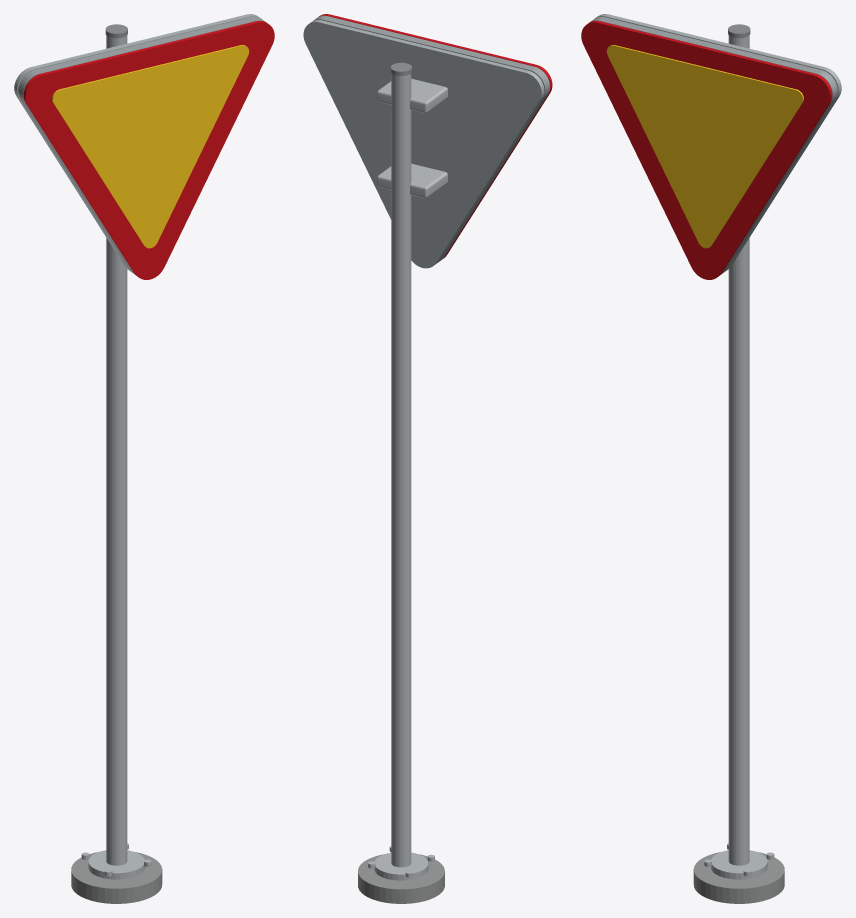
The model's file is pl-a7-ustap-pierwszenstwa.glb.
3 renders of one model, left to right at view 1: azimuth 30°, elevation 25°; view 2: azimuth 150°, elevation 25°; view 3: azimuth 330°, elevation 25°, orthographic. The views are drawn at different scales.
Parts seen in each view (by area): view 1: A-7 rounded yellow triangle R24, A-7 900 mm rounded red reflector R54, Steel pole OD 60 mm hot-dip galvanized, Concrete base collar, Extruded metal rolled lip, 3D stamped steel reverse sheet, Mast foot flange 160mm; view 2: 3D stamped steel reverse sheet, Steel pole OD 60 mm hot-dip galvanized, Concrete base collar, Extruded metal rolled lip, Folded sign-to-mast omega bracket, Folded sign-to-mast omega bracket.001, A-7 900 mm rounded red reflector R54, Mast foot flange 160mm; view 3: A-7 rounded yellow triangle R24, A-7 900 mm rounded red reflector R54, Steel pole OD 60 mm hot-dip galvanized, Concrete base collar, Extruded metal rolled lip, 3D stamped steel reverse sheet, Mast foot flange 160mm.
Boxes of the visible parts, box(x1,y1,x2,y2) form: A-7 rounded yellow triangle R24: box(52, 45, 249, 248); A-7 900 mm rounded red reflector R54: box(23, 20, 274, 279); Steel pole OD 60 mm hot-dip galvanized: box(106, 35, 127, 865); Concrete base collar: box(71, 852, 162, 903); Extruded metal rolled lip: box(18, 17, 265, 274); 3D stamped steel reverse sheet: box(14, 14, 259, 270); Mast foot flange 160mm: box(88, 850, 144, 879); 3D stamped steel reverse sheet: box(303, 20, 544, 268); Steel pole OD 60 mm hot-dip galvanized: box(391, 73, 411, 867); Concrete base collar: box(358, 854, 444, 903); Extruded metal rolled lip: box(313, 15, 550, 262); Folded sign-to-mast omega bracket: box(377, 163, 447, 198); Folded sign-to-mast omega bracket.001: box(377, 78, 447, 112); A-7 900 mm rounded red reflector R54: box(319, 14, 552, 258); Mast foot flange 160mm: box(374, 852, 428, 880); A-7 rounded yellow triangle R24: box(606, 45, 803, 248); A-7 900 mm rounded red reflector R54: box(581, 20, 832, 279); Steel pole OD 60 mm hot-dip galvanized: box(728, 35, 749, 865); Concrete base collar: box(693, 852, 784, 903); Extruded metal rolled lip: box(590, 17, 837, 274); 3D stamped steel reverse sheet: box(596, 14, 841, 270); Mast foot flange 160mm: box(711, 850, 767, 879).
Bounding box in the file's own units: 0.821 × 2.71 × 0.326.
